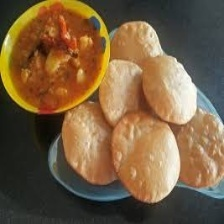sabzi: (5, 4, 106, 110)
